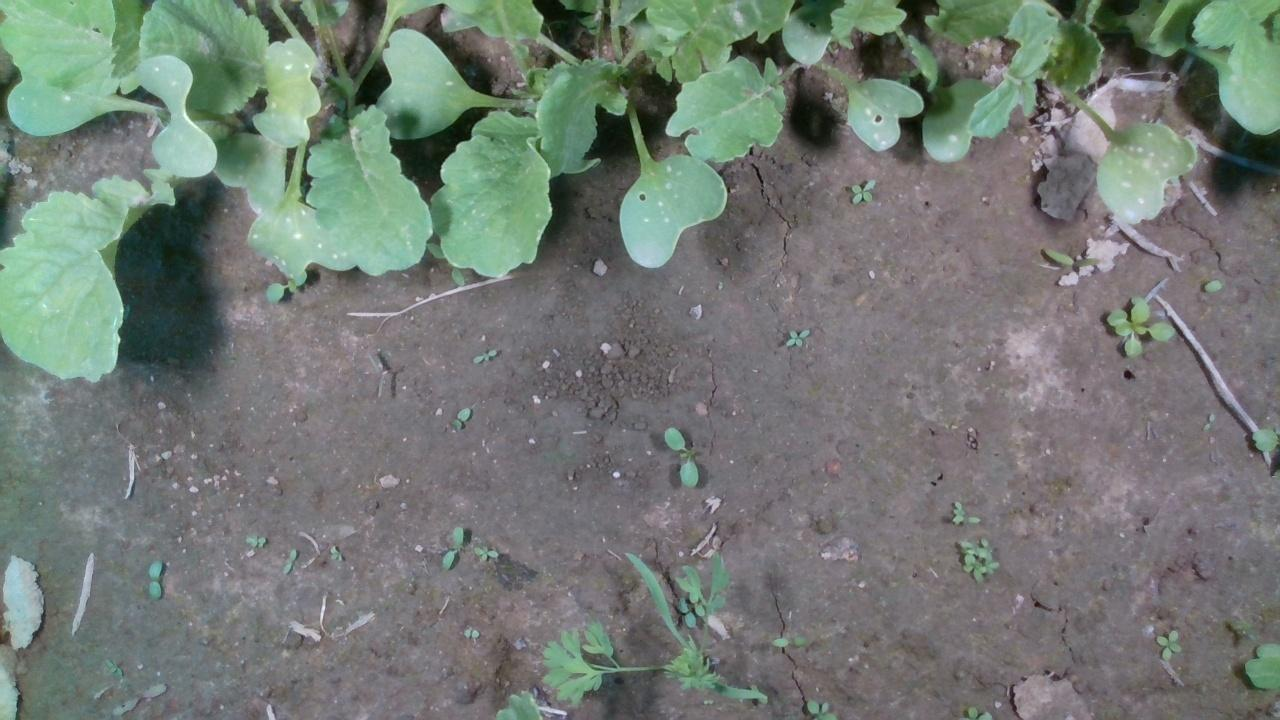weed: (663, 426, 699, 487), (438, 523, 464, 569), (1154, 628, 1181, 660), (144, 558, 162, 600), (850, 176, 878, 202), (783, 328, 810, 348), (472, 544, 499, 562), (278, 546, 295, 574), (767, 636, 810, 647), (472, 349, 498, 362)
